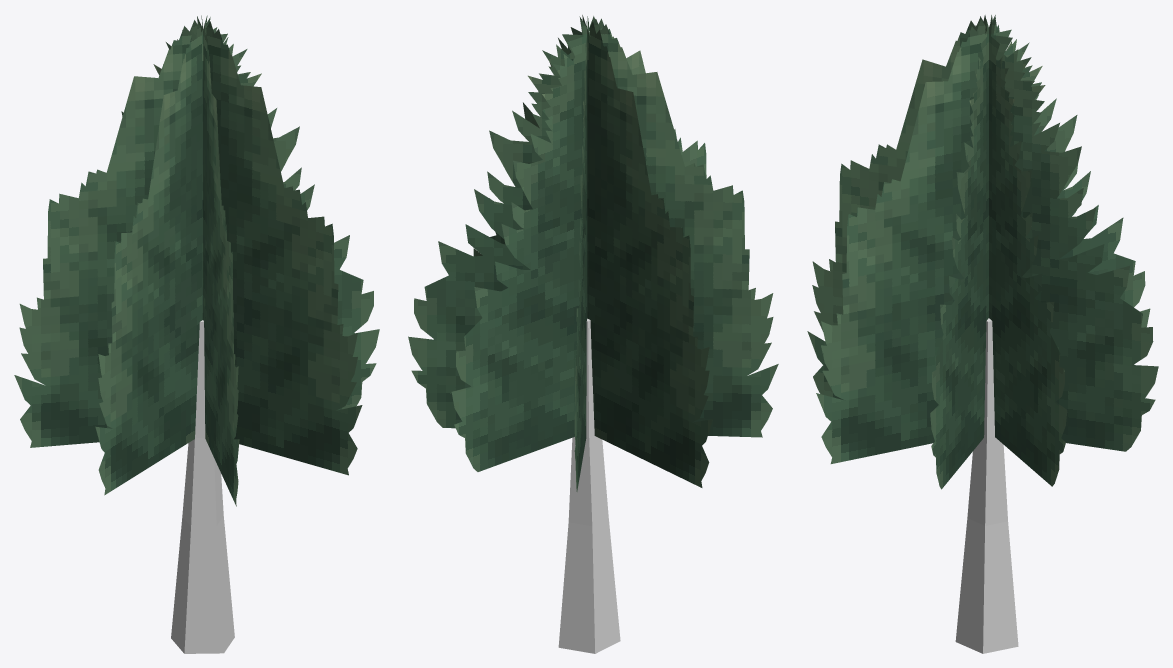
The model's file is proto_tree.fbx.
3 views of the same model, side by side, from view 1: azimuth 30°, elevation 25°; view 2: azimuth 150°, elevation 25°; view 3: azimuth 270°, elevation 25° (orthographic).
Visible parts, largest first — view 1: Cube.002; view 2: Cube.002; view 3: Cube.002.
Boxes of the visible parts, x1,y1,x2,y2 form: Cube.002: [14, 15, 379, 653]; Cube.002: [408, 15, 778, 653]; Cube.002: [807, 15, 1158, 653].
Bounding box in the file's own units: 340 × 665 × 340.
2 materials, 1 textured.
